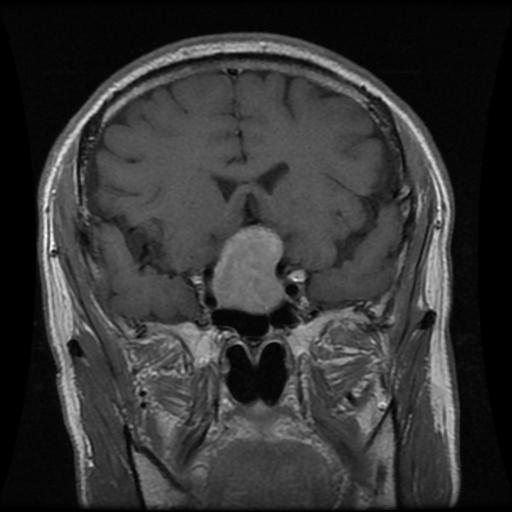Pituirity_tumour: (211, 223, 285, 313)
